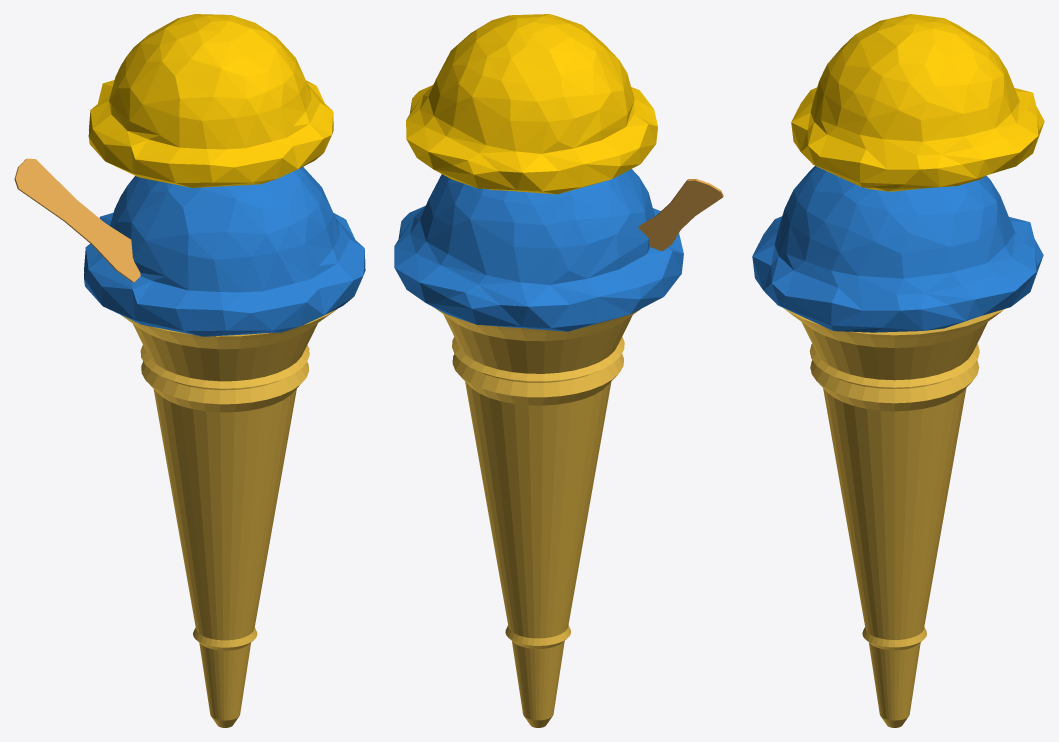
File: ice_double.glb
The picture shows the model from 3 angles, left to right: view 1: azimuth 30°, elevation 25°; view 2: azimuth 150°, elevation 25°; view 3: azimuth 270°, elevation 25°; orthographic projection. The views are drawn at different scales.
Visible parts, largest first — view 1: corn, ice, ice.001, 平面.001; view 2: corn, ice, ice.001, 平面.001; view 3: corn, ice, ice.001.
Part boxes in pixels (box(x1,y1,x2,y2)): corn: box(121, 309, 336, 727); ice: box(84, 167, 365, 336); ice.001: box(88, 14, 333, 187); 平面.001: box(14, 158, 140, 282); corn: box(435, 308, 641, 727); ice: box(394, 169, 683, 331); ice.001: box(406, 14, 657, 194); 平面.001: box(638, 179, 723, 251); corn: box(783, 308, 1004, 727); ice: box(752, 166, 1043, 332); ice.001: box(791, 14, 1044, 191).
Bounding box in the file's own units: 2.17 × 4.54 × 1.72.
